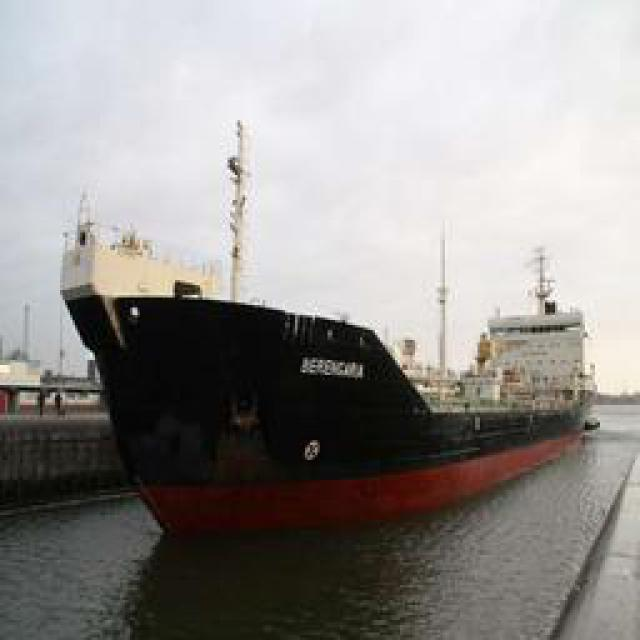Ship: (65, 192, 593, 535)
